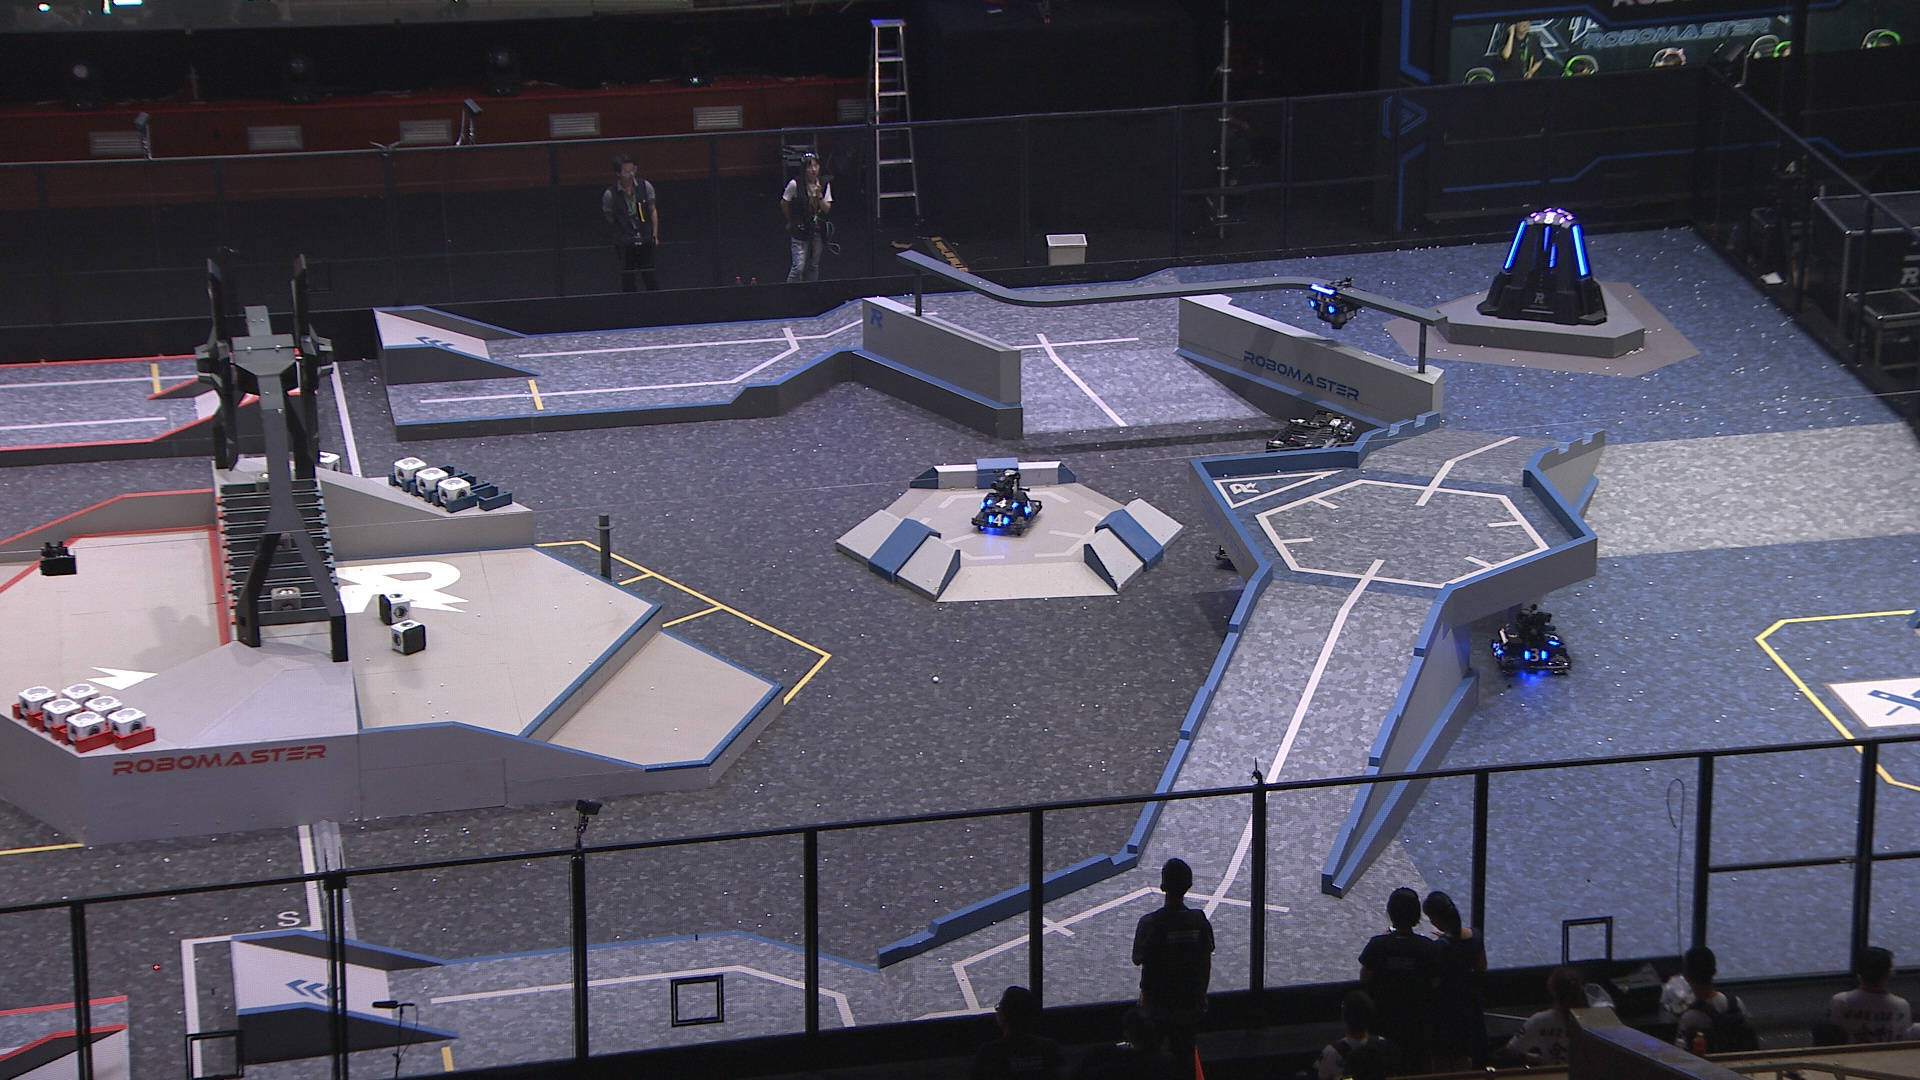armor: (1503, 220, 1528, 272), (1571, 224, 1592, 278), (982, 493, 1021, 512), (1307, 297, 1338, 316), (1542, 624, 1563, 650), (982, 513, 1011, 529), (1539, 224, 1553, 253), (1520, 647, 1548, 662), (1017, 498, 1035, 517), (1489, 640, 1505, 659)
base: (1476, 206, 1610, 327)
car: (1253, 407, 1373, 534), (1486, 600, 1575, 678), (961, 467, 1048, 538)
ignore: (1532, 208, 1567, 225)
watcher: (1304, 272, 1366, 332)
